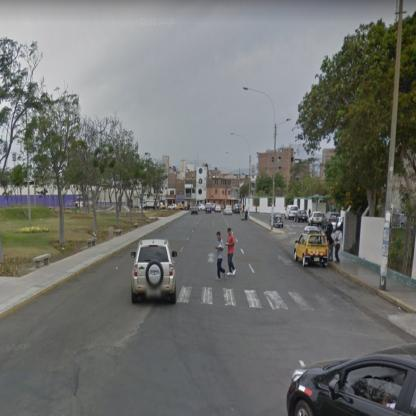Peaton: (227, 227, 238, 277), (325, 232, 336, 262), (336, 225, 343, 264)
Pista: (1, 215, 416, 415)
Vehiculo: (286, 345, 416, 416), (132, 240, 176, 307), (293, 233, 330, 267), (322, 212, 341, 229), (285, 206, 300, 221), (295, 210, 309, 225), (271, 214, 285, 228), (309, 212, 324, 225), (174, 205, 185, 212), (207, 202, 213, 214), (224, 208, 233, 216), (192, 208, 199, 216), (169, 205, 178, 211), (216, 206, 221, 214)
